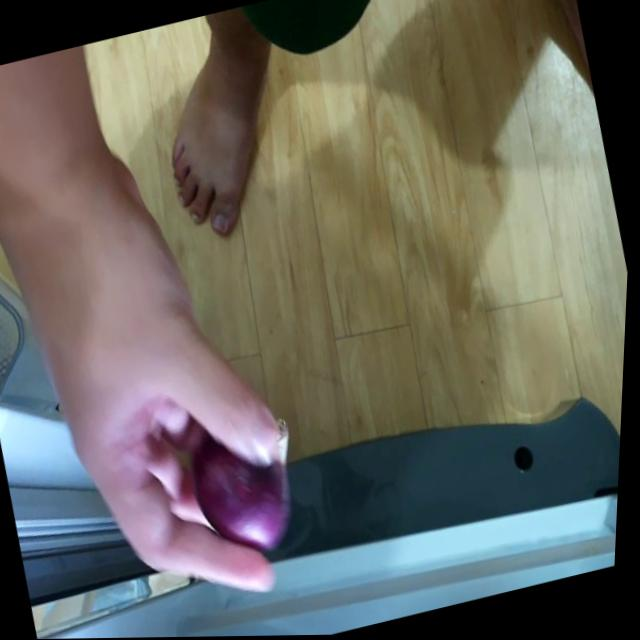onion: (182, 378, 323, 560)
